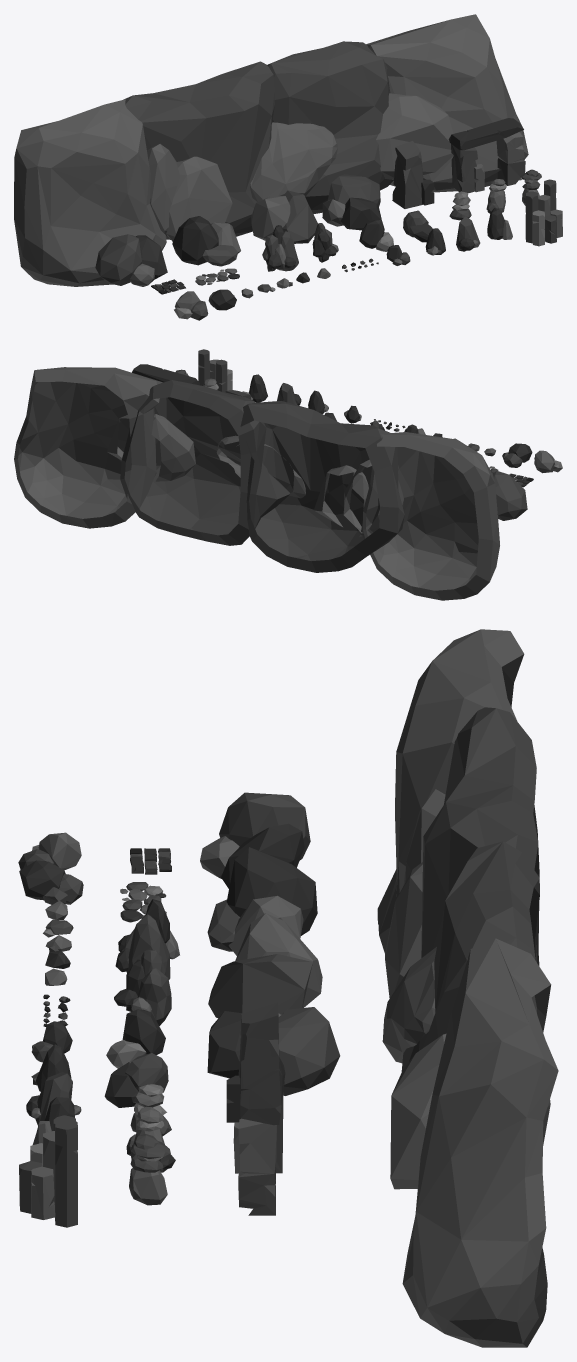
File: ALL-ROCKS.fbx
The picture shows the model from 3 angles, top to bottom: view 1: azimuth 30°, elevation 25°; view 2: azimuth 150°, elevation 25°; view 3: azimuth 270°, elevation 25°; orthographic projection. The views are drawn at different scales.
Parts seen in each view (by area): view 1: rock_xxl_01, rock_xxl_02, rock_xxl_03, rock_xxl_01.002, rock_xxl_02.5, rock_xxl_01.003, rock_xxl_01.001, rock_xl_03, rock_xl_02.001, rock_xl_02, rock_xl_01, rock_xxl_01.5 (+16 smaller); view 2: rock_xxl_01.002, rock_xxl_02, rock_xxl_01, rock_xxl_03, rock_xxl_01.003, rock_xl_03, rock_xxl_01.001, rock_xxl_01.5, column-rock-6, rock_xxl_02.5, rock_lg_04, rock_lg_03 (+4 smaller); view 3: rock_xxl_01.002, rock_xxl_02, rock_xxl_01, rock_xxl_03, rock_xl_01, rock_xl_02, rock_xl_02.001, rock_xl_03, rock_xxl_01.003, rock_xxl_02.5, column-rock-5, rock_xxl_01.001 (+16 smaller).
Part boxes in pixels (x1=…): rock_xxl_01: x1=14, y1=99, x2=166, y2=286; rock_xxl_02: x1=123, y1=61, x2=274, y2=239; rock_xxl_03: x1=267, y1=41, x2=393, y2=214; rock_xxl_01.002: x1=366, y1=14, x2=528, y2=192; rock_xxl_02.5: x1=250, y1=122, x2=337, y2=201; rock_xxl_01.003: x1=376, y1=93, x2=453, y2=179; rock_xxl_01.001: x1=166, y1=156, x2=232, y2=241; rock_xl_03: x1=95, y1=234, x2=167, y2=286; rock_xl_02.001: x1=322, y1=174, x2=381, y2=230; rock_xl_02: x1=172, y1=216, x2=240, y2=266; rock_xl_01: x1=251, y1=190, x2=317, y2=243; rock_xxl_01.5: x1=147, y1=144, x2=180, y2=235; rock_xxl_01.002: x1=14, y1=367, x2=162, y2=528; rock_xxl_02: x1=240, y1=401, x2=404, y2=572; rock_xxl_01: x1=363, y1=432, x2=499, y2=600; rock_xxl_03: x1=120, y1=380, x2=289, y2=545; rock_xxl_01.003: x1=107, y1=414, x2=195, y2=481; rock_xl_03: x1=492, y1=470, x2=527, y2=520; rock_xxl_01.001: x1=314, y1=465, x2=368, y2=537; rock_xxl_01.5: x1=343, y1=459, x2=403, y2=533; column-rock-6: x1=132, y1=364, x2=200, y2=385; rock_xxl_02.5: x1=216, y1=435, x2=305, y2=498; rock_lg_04: x1=502, y1=443, x2=532, y2=467; rock_lg_03: x1=534, y1=450, x2=562, y2=473; rock_xxl_01.002: x1=402, y1=938, x2=558, y2=1347; rock_xxl_02: x1=421, y1=707, x2=539, y2=965; rock_xxl_01: x1=377, y1=629, x2=524, y2=952; rock_xxl_03: x1=401, y1=841, x2=550, y2=1145; rock_xl_01: x1=208, y1=913, x2=322, y2=1018; rock_xl_02: x1=207, y1=847, x2=317, y2=955; rock_xl_02.001: x1=207, y1=1007, x2=340, y2=1095; rock_xl_03: x1=200, y1=792, x2=310, y2=888; rock_xxl_01.003: x1=390, y1=1033, x2=446, y2=1189; rock_xxl_02.5: x1=382, y1=947, x2=436, y2=1063; column-rock-5: x1=238, y1=1118, x2=276, y2=1215; rock_xxl_01.001: x1=385, y1=862, x2=422, y2=998.
Bounding box in the file's own units: 4649 × 1542 × 2303.
